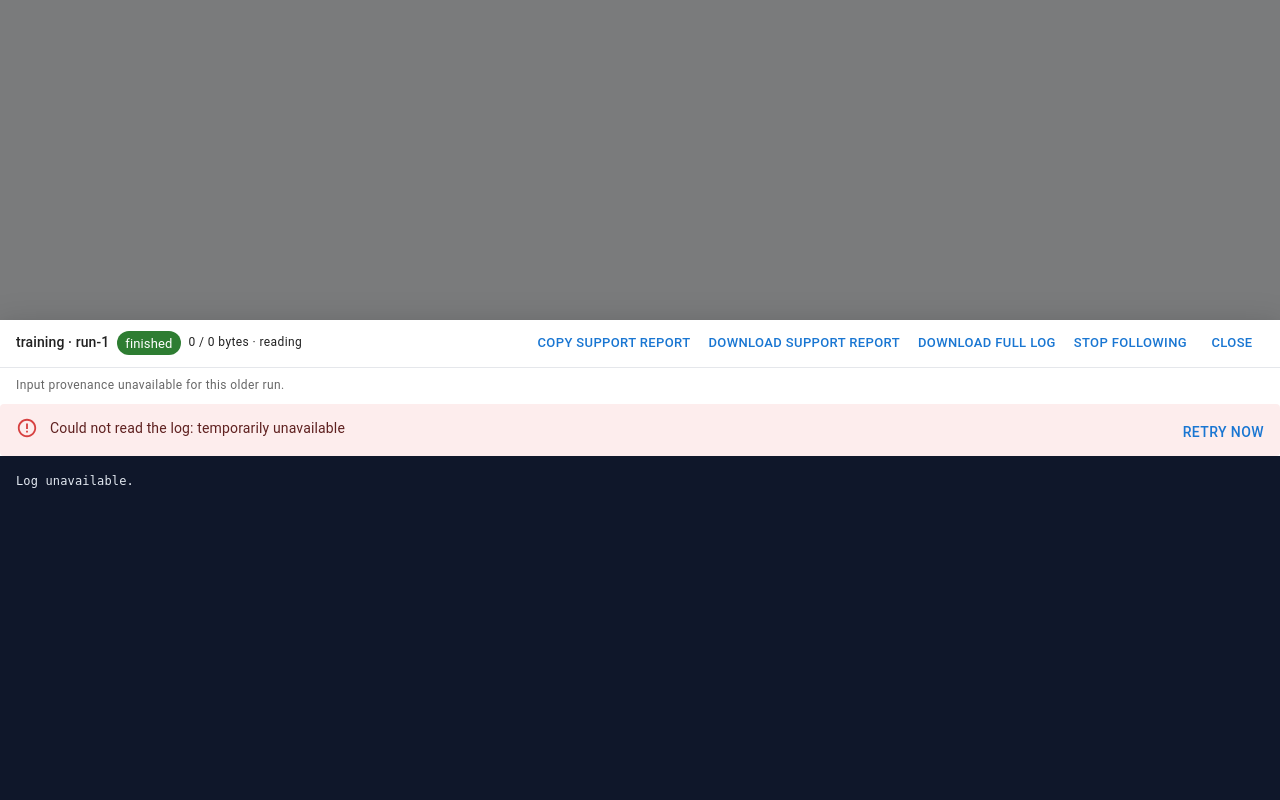
Test: run log pagination › surfaces log errors and resumes from the existing offset on retry
This screenshot has width=1280, height=800.
Expected: the text "Could not read the log: temporarily unavailable" is shown, top-left (50, 420), bottom-right (345, 436)
Click the button "Retry now" at coordinates (1223, 432), box top-left (1175, 414), bottom-right (1272, 450)
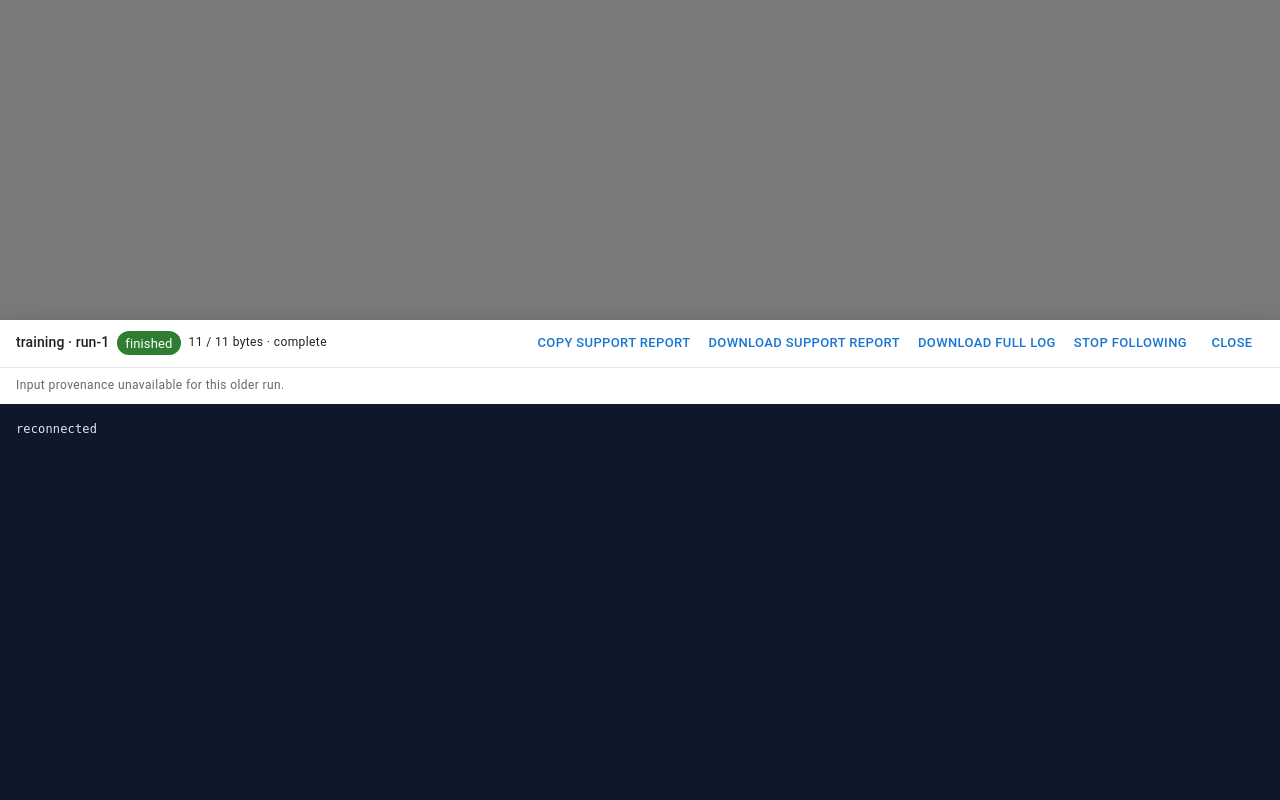
Expected: the text "reconnected" is shown, top-left (0, 404), bottom-right (1279, 799)
